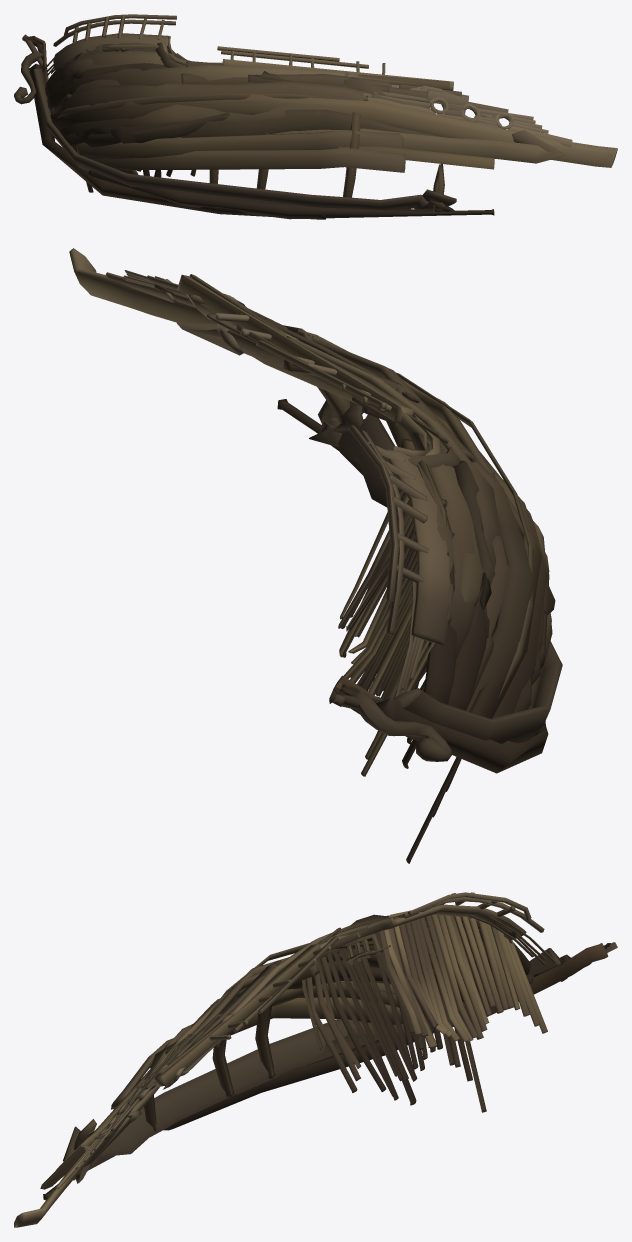
File: brokenGalley_9_17_2022.fbx
3 views of the same model, one above another, from view 1: azimuth 30°, elevation 25°; view 2: azimuth 150°, elevation 25°; view 3: azimuth 270°, elevation 25° (orthographic). The views are drawn at different scales.
Visible parts, largest first — view 1: brokenGalley_LOD0; view 2: brokenGalley_LOD0; view 3: brokenGalley_LOD0.
Part boxes in pixels (x1,y1,x2,y2): brokenGalley_LOD0: (14,14,617,219); brokenGalley_LOD0: (69,248,562,863); brokenGalley_LOD0: (14,892,617,1227).
Size of what is drawn, in the model's own units: 1936 by 854 by 1971.
